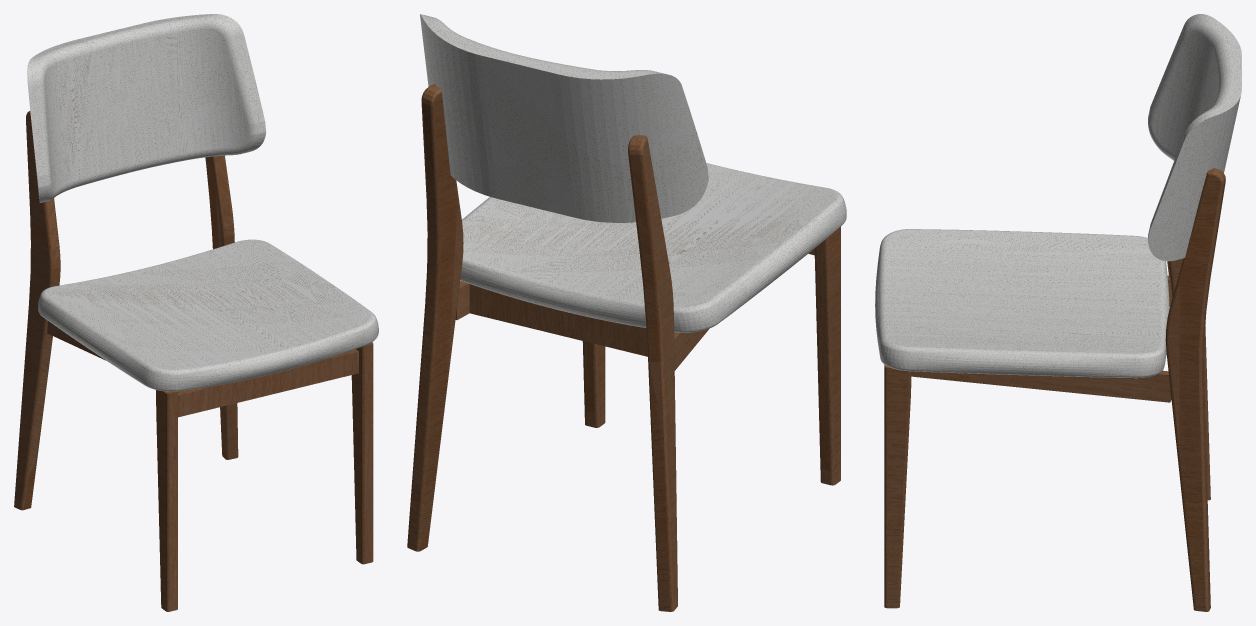
The model's file is Chair5 Gray.fbx.
3 renders of one model, left to right at view 1: azimuth 30°, elevation 25°; view 2: azimuth 150°, elevation 25°; view 3: azimuth 270°, elevation 25°, orthographic. The views are drawn at different scales.
Parts seen in each view (by area): view 1: group_0, group_1, group_2.002, group_2.001, group_2; view 2: group_1, group_0, group_2.002, group_2, group_2.001; view 3: group_0, group_1, group_2, group_2.002, group_2.001.
Part boxes in pixels (bbox=[...]): group_0: bbox=[38, 239, 378, 391]; group_1: bbox=[27, 14, 266, 202]; group_2.002: bbox=[47, 321, 373, 611]; group_2.001: bbox=[14, 111, 60, 510]; group_2: bbox=[205, 155, 238, 459]; group_1: bbox=[420, 14, 708, 222]; group_0: bbox=[460, 163, 846, 332]; group_2.002: bbox=[455, 227, 840, 485]; group_2: bbox=[407, 84, 463, 551]; group_2.001: bbox=[628, 135, 677, 611]; group_0: bbox=[875, 229, 1169, 378]; group_1: bbox=[1148, 14, 1241, 261]; group_2: bbox=[1165, 168, 1225, 611]; group_2.002: bbox=[884, 275, 1172, 608]; group_2.001: bbox=[1167, 258, 1210, 500].
Bounding box in the file's own units: 63.44 × 113 × 76.95.
